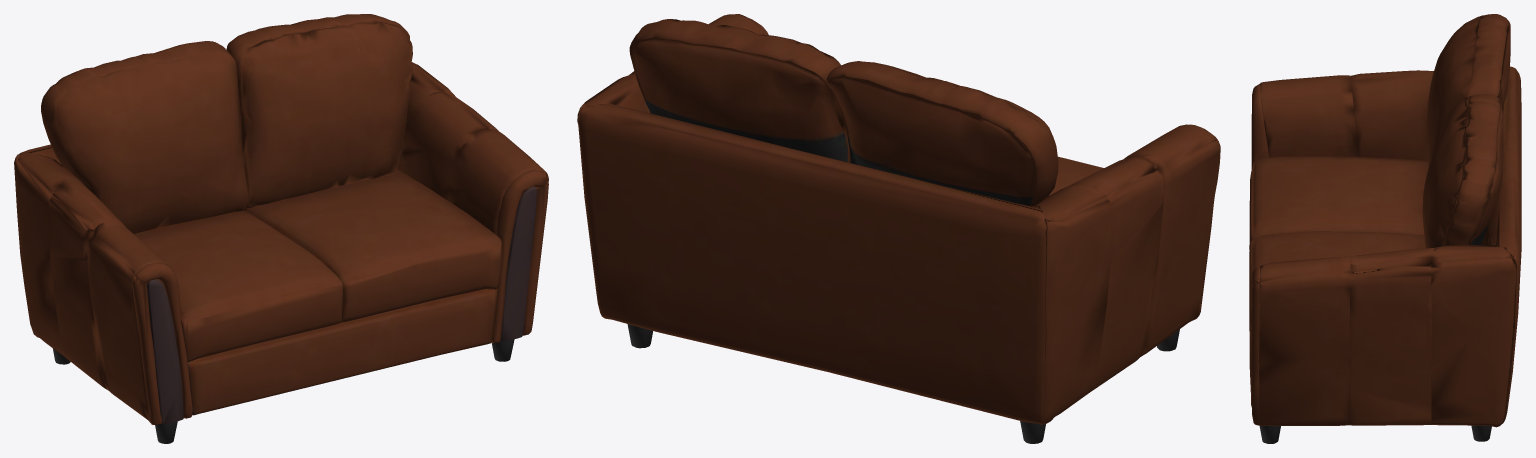
File: B07RJFG359.glb
The picture shows the model from 3 angles, left to right: view 1: azimuth 30°, elevation 25°; view 2: azimuth 150°, elevation 25°; view 3: azimuth 270°, elevation 25°; orthographic projection. The views are drawn at different scales.
Visible parts, largest first — view 1: RootNode; view 2: RootNode; view 3: RootNode.
Boxes of the visible parts, x1,y1,x2,y2 form: RootNode: (14, 14, 548, 443); RootNode: (577, 14, 1220, 443); RootNode: (1249, 14, 1521, 443).
Bounding box in the file's own units: 1.41 × 0.9044 × 0.8038.
Materials: 1 (1 with a texture image).
